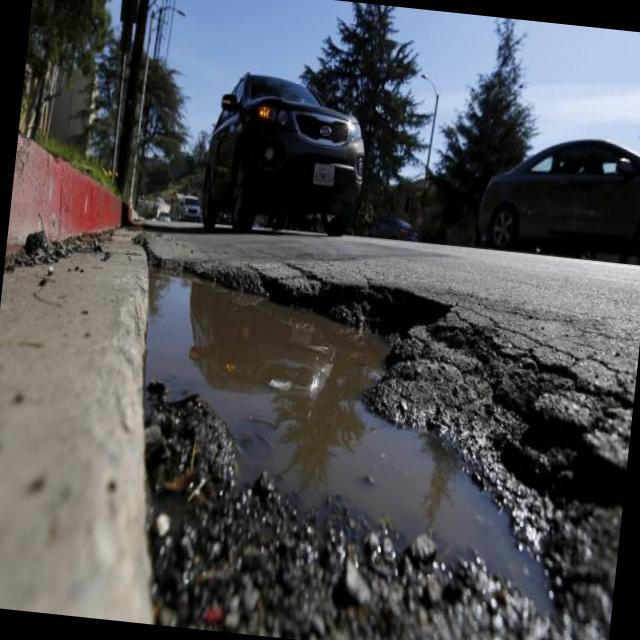Pothole: (141, 240, 443, 514)
